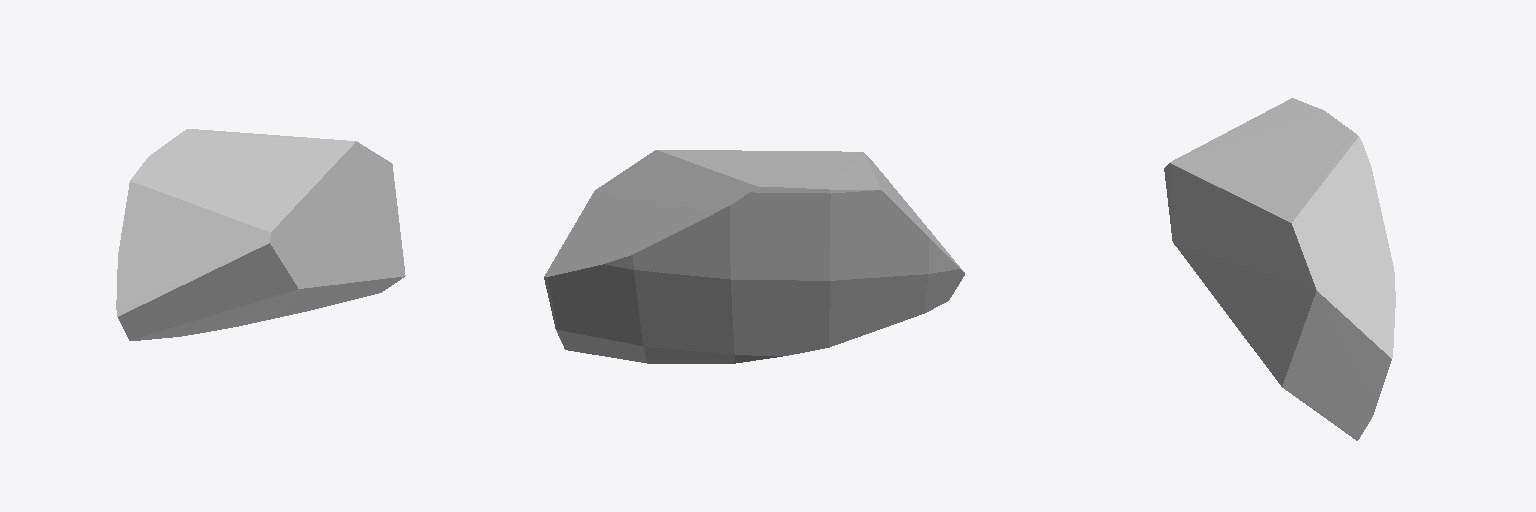
The model's file is Sphere_Cell_Fracture61.obj.
3 renders of one model, left to right at view 1: azimuth 30°, elevation 25°; view 2: azimuth 150°, elevation 25°; view 3: azimuth 270°, elevation 25°, orthographic.
Size of the model in its own units: 0.7496 by 0.4497 by 0.4476.